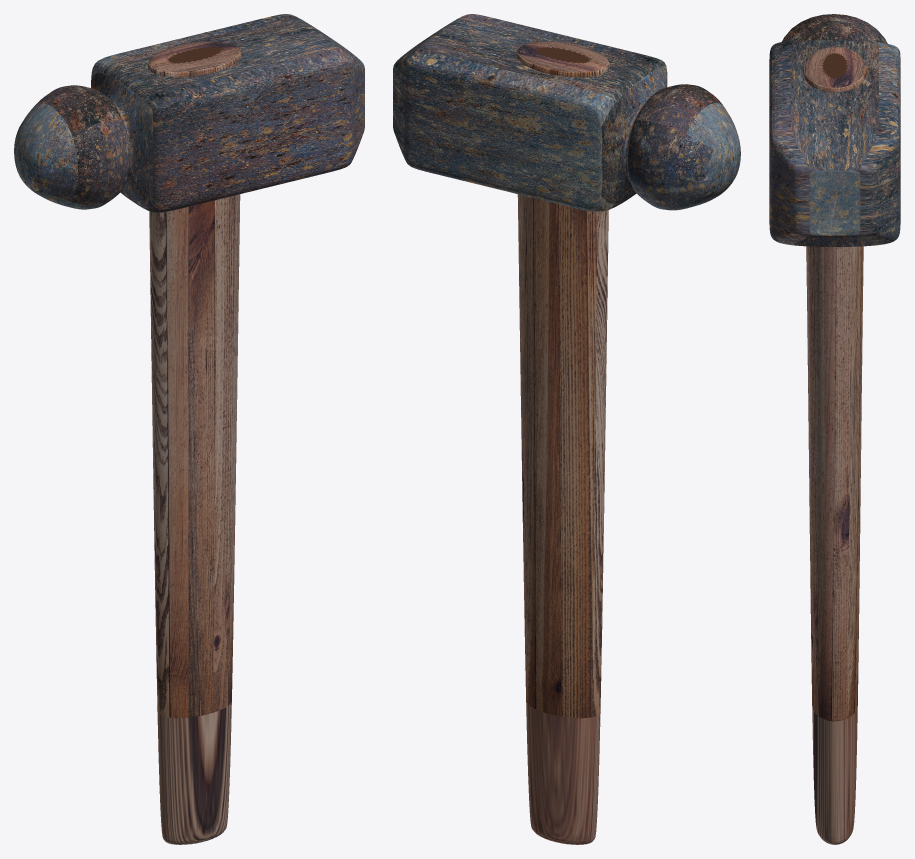
The model's file is Hammer.gltf.
3 views of the same model, side by side, from view 1: azimuth 30°, elevation 25°; view 2: azimuth 150°, elevation 25°; view 3: azimuth 270°, elevation 25° (orthographic).
Parts seen in each view (by area): view 1: node-0; view 2: node-0; view 3: node-0.
Boxes of the visible parts, box(x1,y1,x2,y2) form: node-0: box(14, 14, 364, 844); node-0: box(393, 14, 740, 844); node-0: box(769, 14, 900, 844).
Size of the model in its own units: 4.3 by 9.96 by 1.54.
3 materials, 3 textured.
